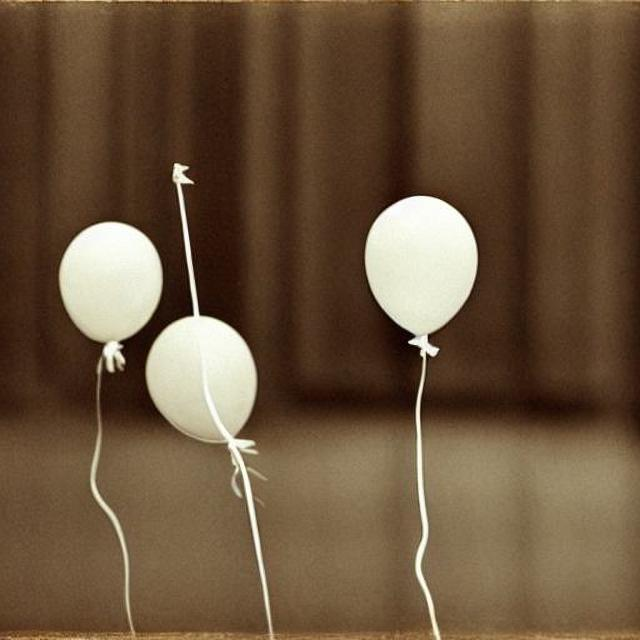balloon: (351, 188, 486, 350), (138, 311, 263, 439), (54, 212, 164, 348)
